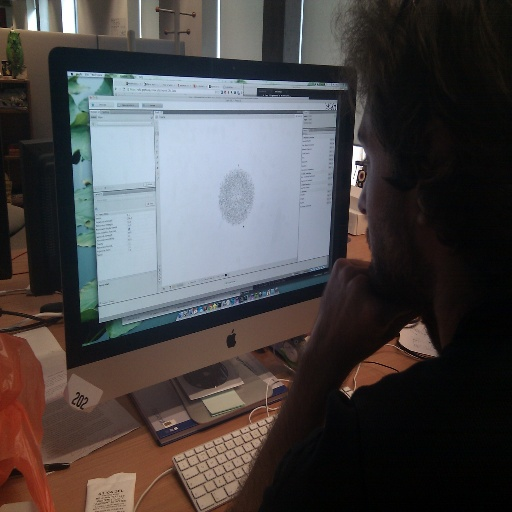hand: (288, 253, 414, 398)
